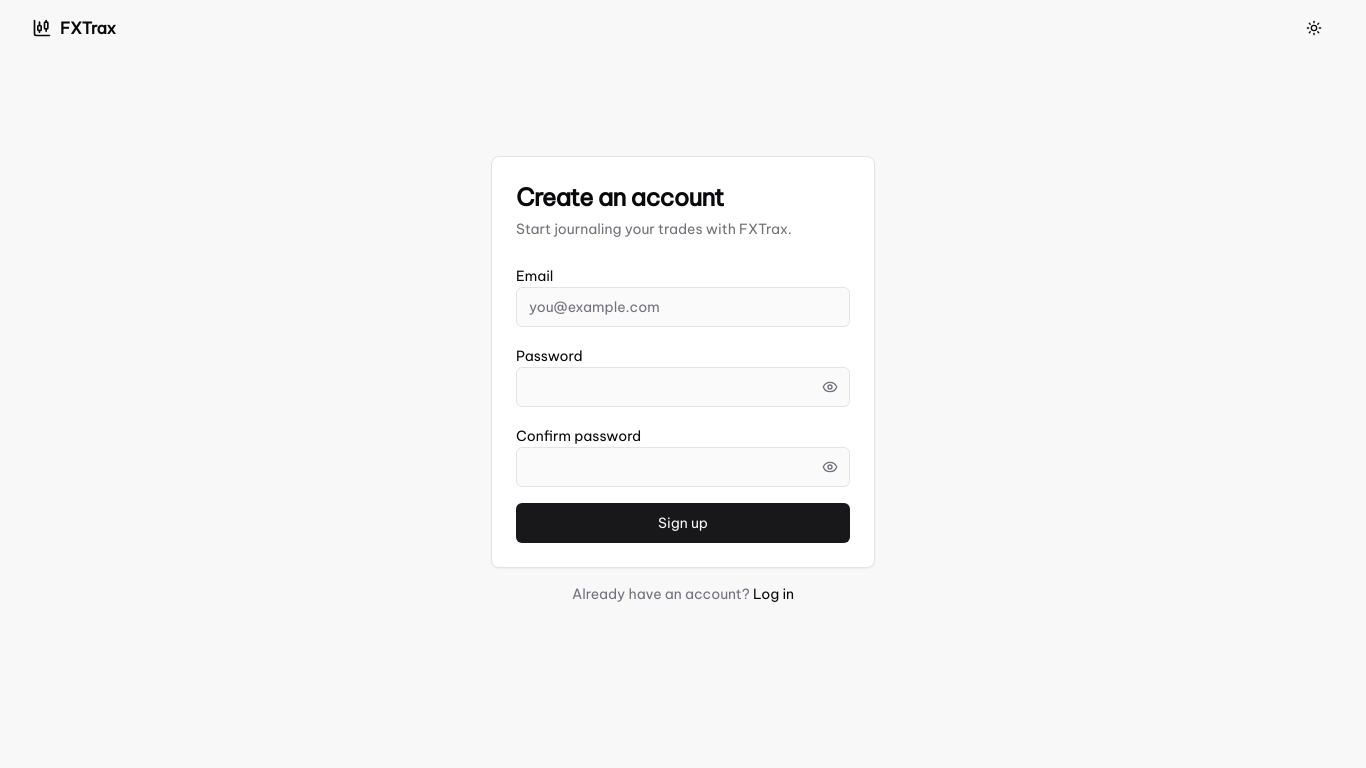
Test: sign up page › shows an error and stays on the form when sign up is rejected
Type "trader@example.com" into the field labelled "Email".
click(683, 307); type("trader@example.com")  # box [516,287,850,327]
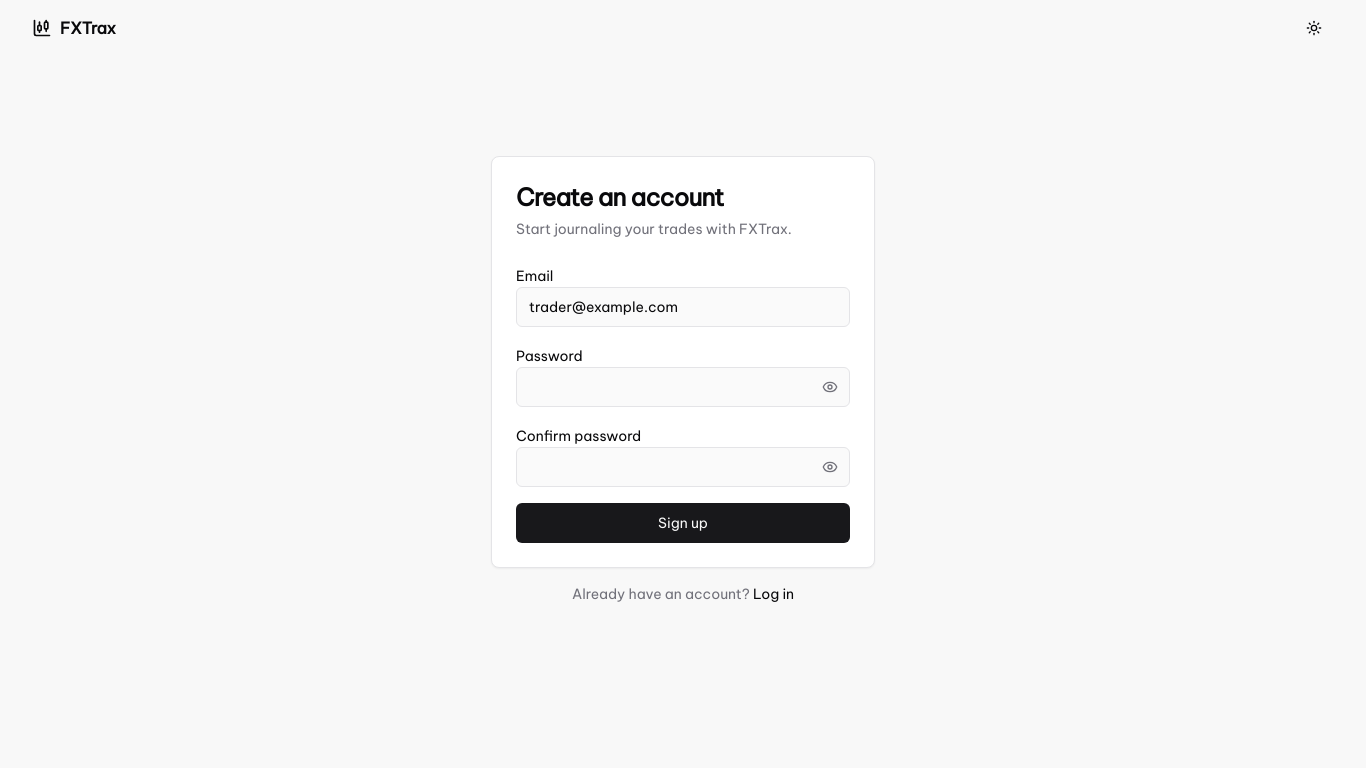
Type "secret123" into the password field labelled "Password".
click(683, 387); type("secret123")  # box [516,367,850,407]
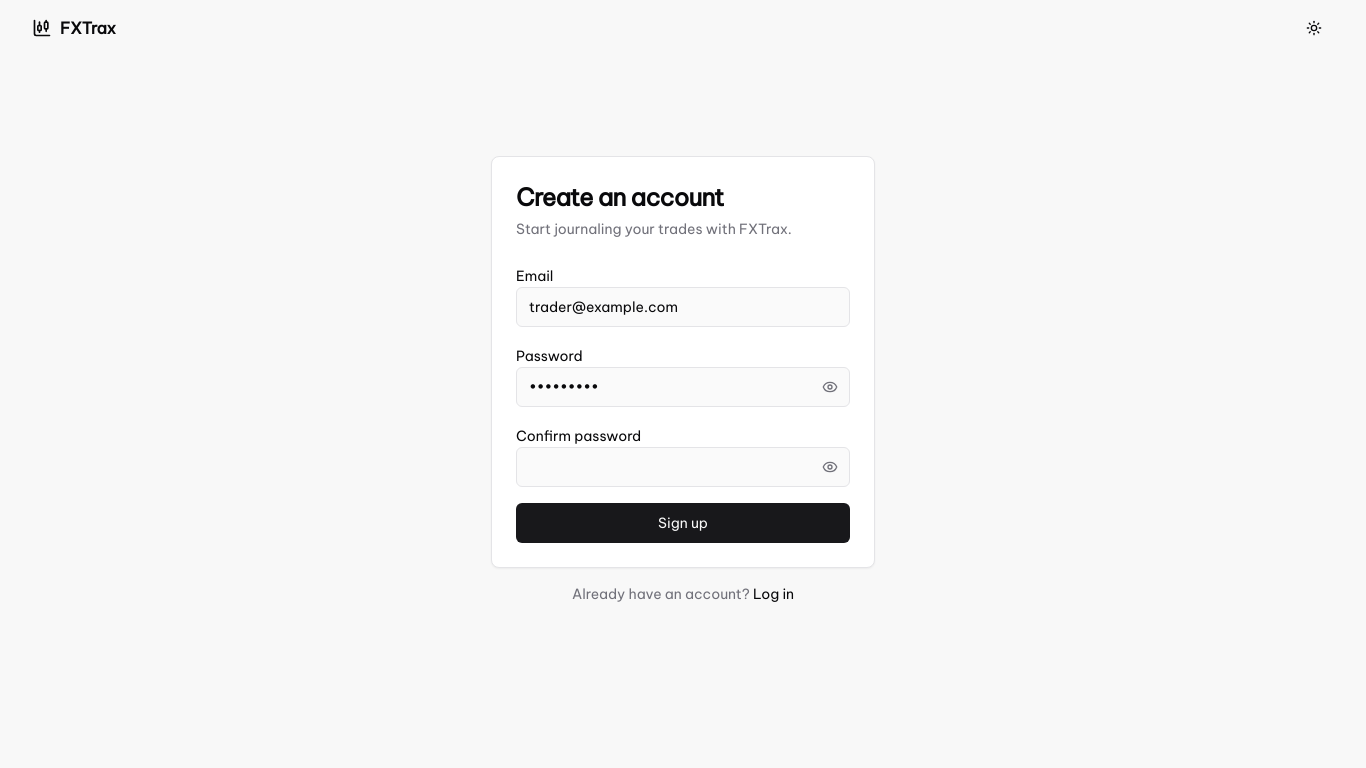
Type "secret123" into the password field labelled "Confirm password".
click(683, 467); type("secret123")  # box [516,447,850,487]
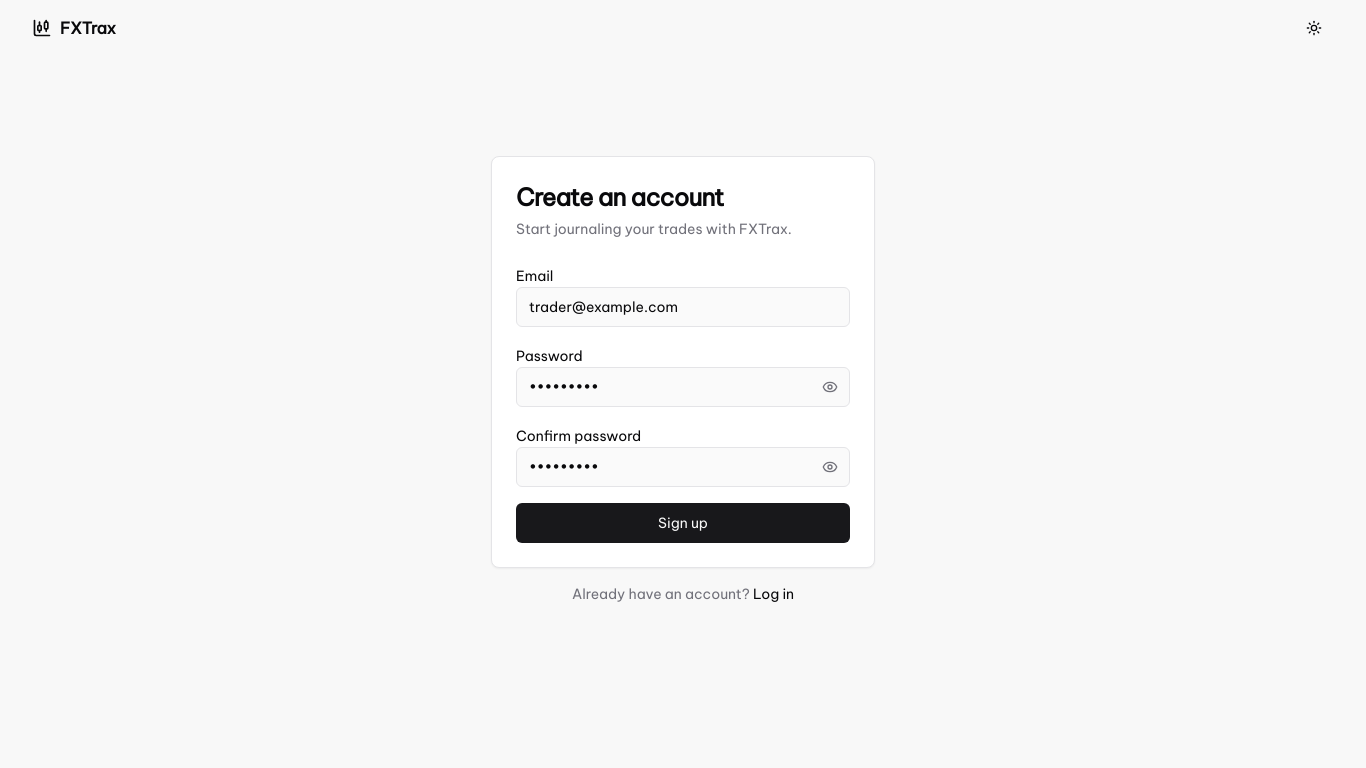
Click the button "Sign up".
click(683, 523)  # box [516,503,850,543]
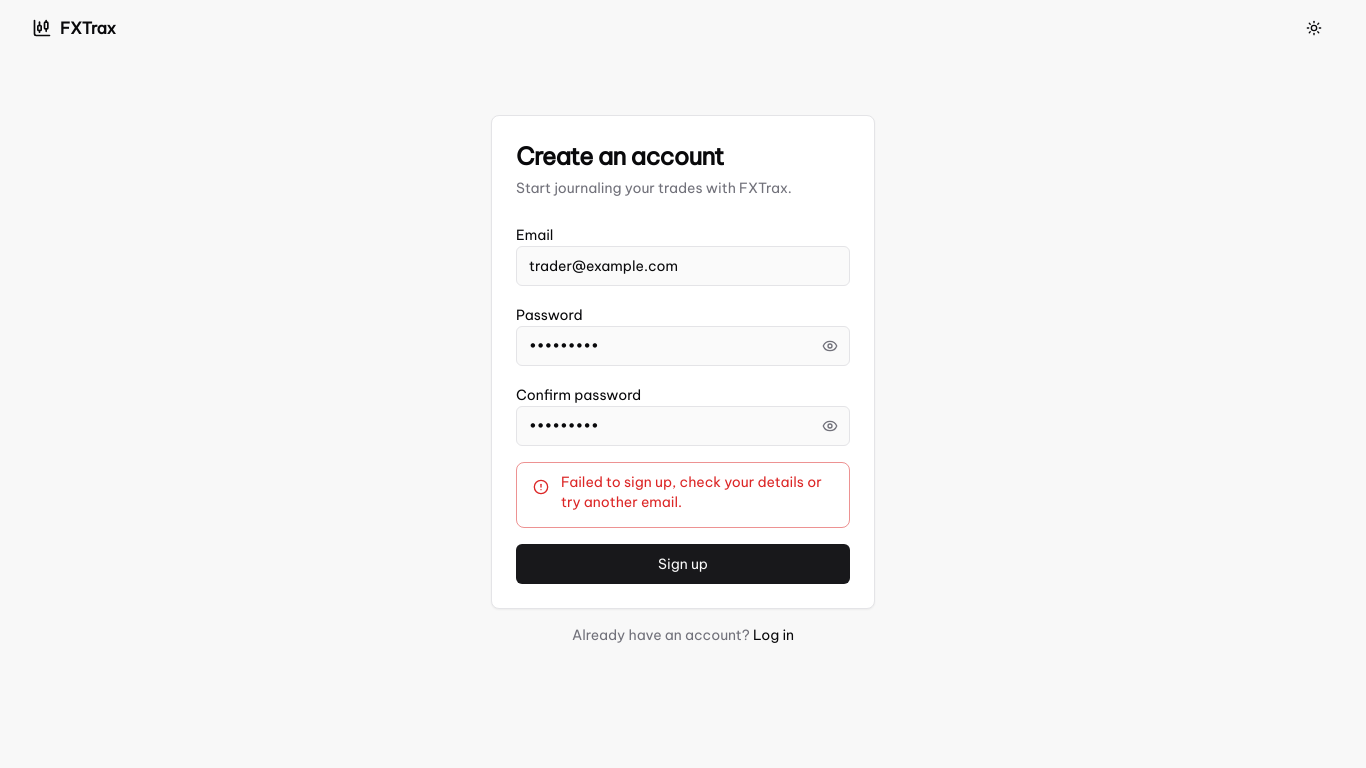
Expected: the message shows "Failed to sign up", [561,473,822,511]
